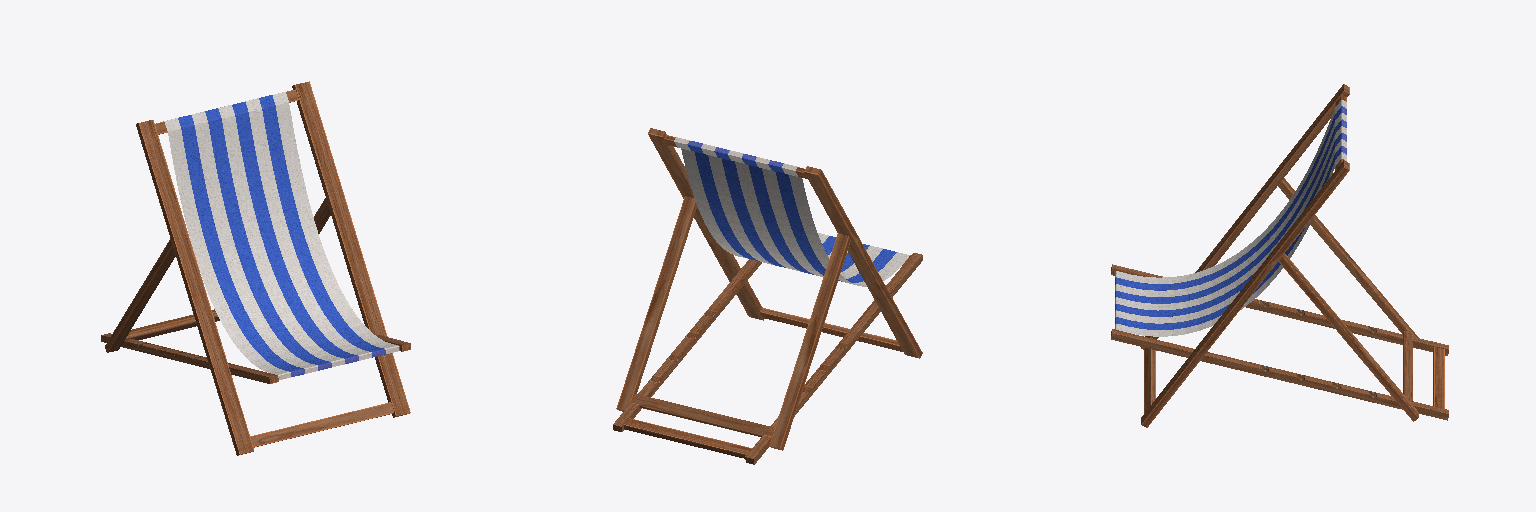
3 renders of one model, left to right at view 1: azimuth 30°, elevation 25°; view 2: azimuth 150°, elevation 25°; view 3: azimuth 270°, elevation 25°, orthographic.
Visible parts, largest first — view 1: Plane, Cube.001_Cube.002, Cube.006_Cube.016, Cube.004_Cube.014, Cube_Cube.001, Cylinder; view 2: Plane, Cube.006_Cube.016, Cube.001_Cube.002, Cube.004_Cube.014, Cylinder, Cube.005_Cube.015, Cube_Cube.001; view 3: Plane, Cube.001_Cube.002, Cube.004_Cube.014, Cube.006_Cube.016, Cube.005_Cube.015, Cube_Cube.001, Cylinder.
Boxes of the visible parts, x1=… form: Plane: x1=163, y1=92, x2=398, y2=379; Cube.001_Cube.002: x1=136, y1=81, x2=410, y2=455; Cube.006_Cube.016: x1=105, y1=198, x2=330, y2=352; Cube.004_Cube.014: x1=101, y1=333, x2=410, y2=383; Cube_Cube.001: x1=250, y1=402, x2=393, y2=447; Cylinder: x1=124, y1=313, x2=219, y2=340; Plane: x1=674, y1=137, x2=910, y2=286; Cube.006_Cube.016: x1=616, y1=196, x2=850, y2=450; Cube.001_Cube.002: x1=648, y1=128, x2=922, y2=358; Cube.004_Cube.014: x1=613, y1=253, x2=922, y2=464; Cylinder: x1=631, y1=394, x2=774, y2=436; Cube.005_Cube.015: x1=624, y1=418, x2=751, y2=458; Cube_Cube.001: x1=760, y1=308, x2=902, y2=351; Plane: x1=1115, y1=100, x2=1346, y2=336; Cube.001_Cube.002: x1=1141, y1=84, x2=1349, y2=427; Cube.004_Cube.014: x1=1111, y1=264, x2=1448, y2=420; Cube.006_Cube.016: x1=1278, y1=178, x2=1418, y2=421; Cube.005_Cube.015: x1=1433, y1=347, x2=1444, y2=408; Cube_Cube.001: x1=1144, y1=338, x2=1155, y2=412; Cylinder: x1=1403, y1=330, x2=1412, y2=404.
Bounding box in the file's own units: 0.7855 × 1.15 × 1.35.
Materials: 1 (1 with a texture image).